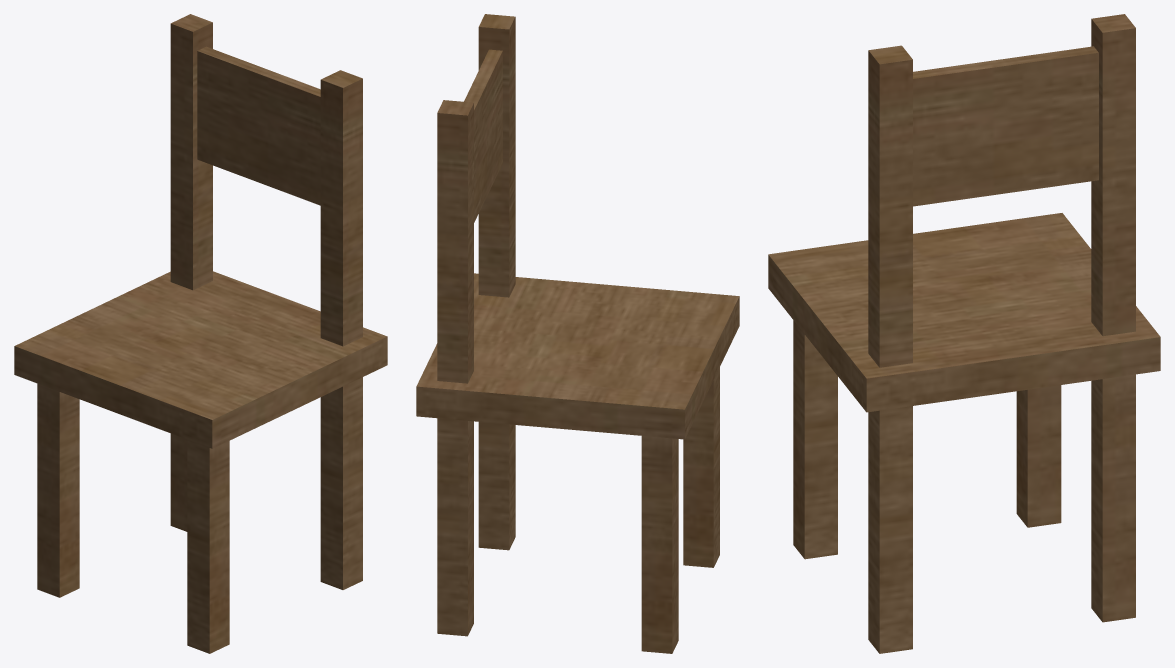
The picture shows the model from 3 angles, left to right: view 1: azimuth 30°, elevation 25°; view 2: azimuth 150°, elevation 25°; view 3: azimuth 270°, elevation 25°; orthographic projection. The views are drawn at different scales.
Visible parts, largest first — view 1: Cube192_Wood_05_0; view 2: Cube192_Wood_05_0; view 3: Cube192_Wood_05_0.
Part boxes in pixels (x1,y1,x2,y2): Cube192_Wood_05_0: [14, 14, 387, 653]; Cube192_Wood_05_0: [416, 14, 739, 653]; Cube192_Wood_05_0: [768, 14, 1160, 653].
Size of the model in its own units: 0.63 by 1.04 by 0.63.
Materials: 1 (1 with a texture image).
